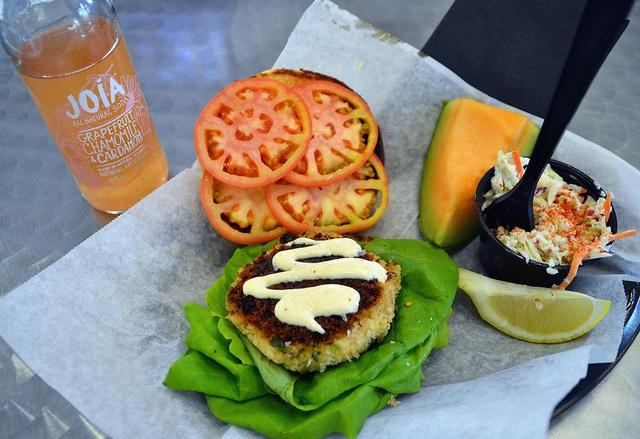lemon: (458, 266, 610, 344)
lettuce: (166, 238, 462, 436)
tomato: (193, 77, 312, 188), (264, 151, 390, 235), (284, 79, 377, 187), (199, 168, 288, 244)
